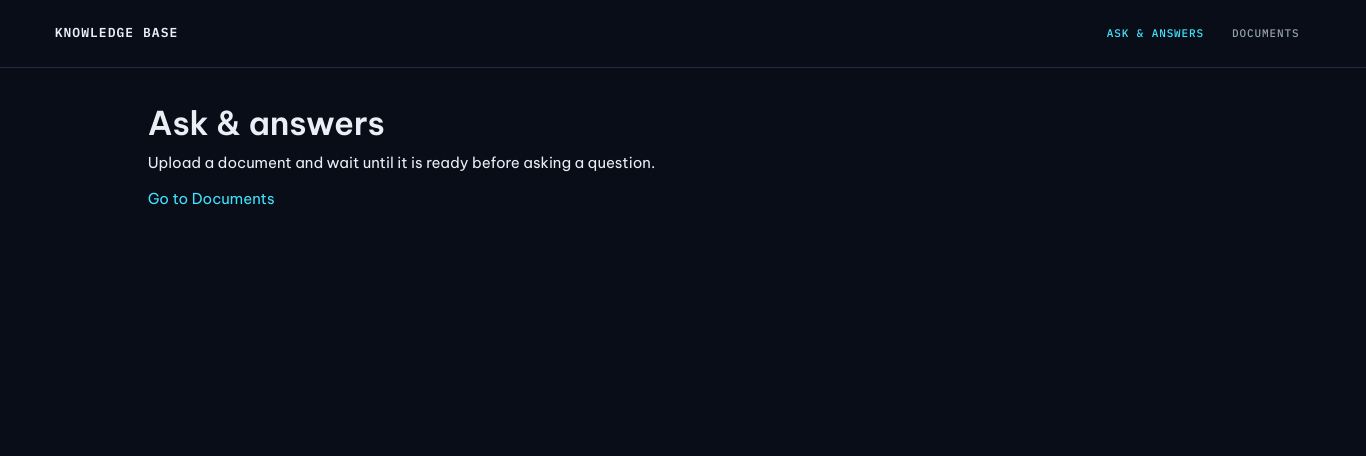
Test: App audit remediation — documents states › shows a generic wait (not the empty state) while the document list is loading
What coordinates should you click on to do the following:
click the link "Documents"
I would click on:
 (1266, 33)
Its box is [1232,26,1299,40].
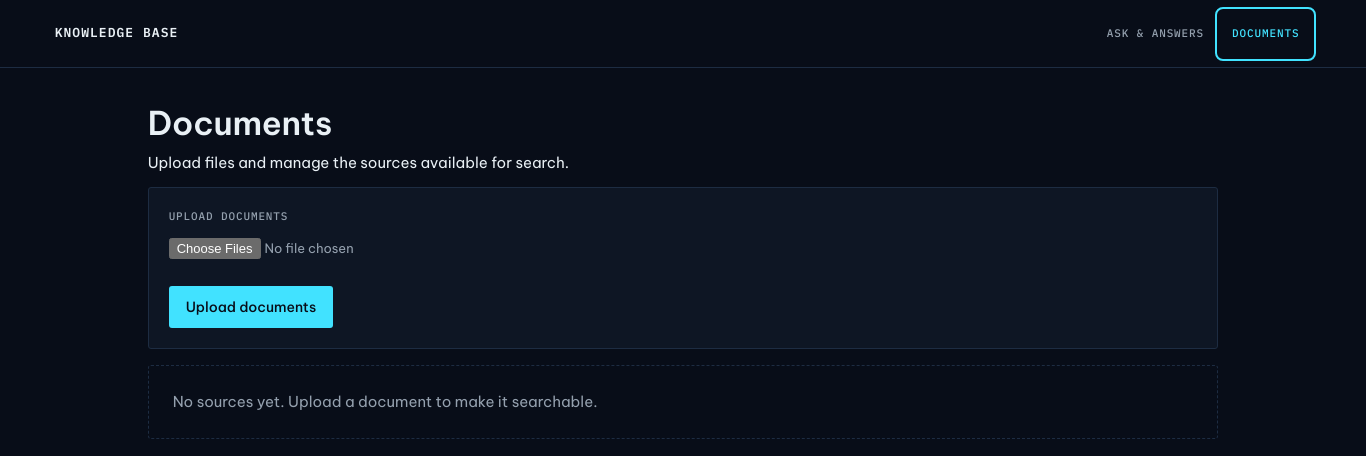
Check: the text "No sources yet. Upload a document to make it searchable." is shown, box [148,365,1218,439]
